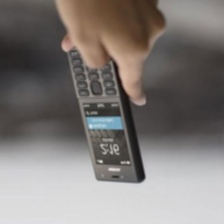phone: (58, 42, 146, 184)
